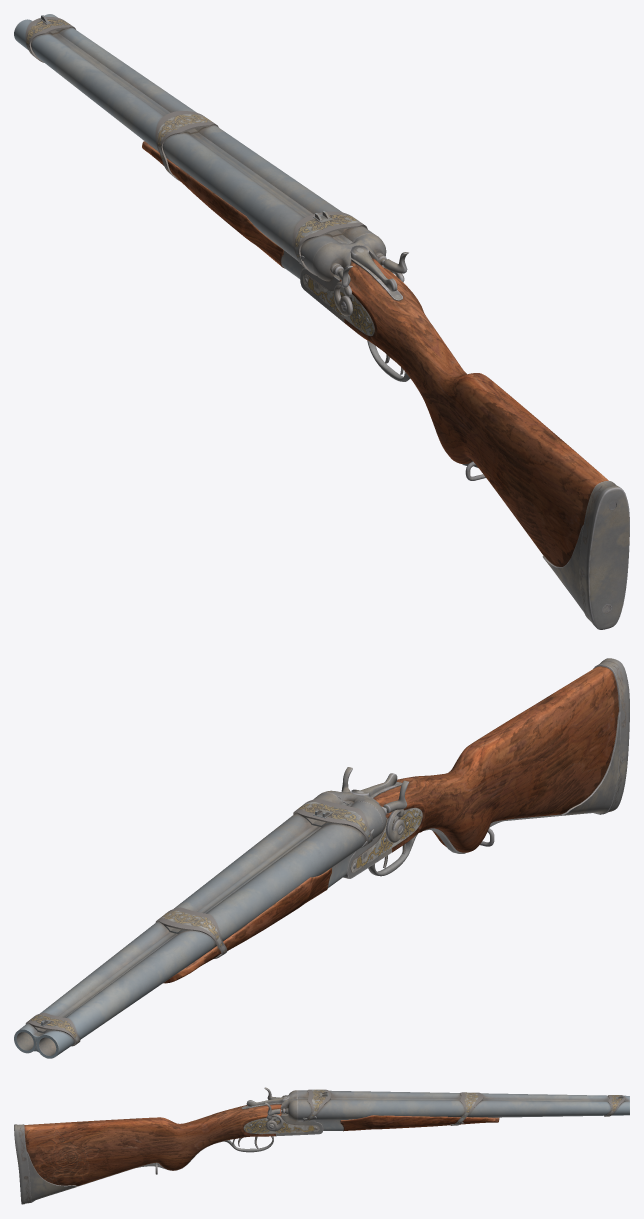
The model's file is stagecoach_shotgun.glb.
3 views of the same model, one above another, from view 1: azimuth 30°, elevation 25°; view 2: azimuth 150°, elevation 25°; view 3: azimuth 270°, elevation 25° (orthographic). The views are drawn at different scales.
Visible parts, largest first — view 1: StockMesh, BarrelMesh; view 2: StockMesh, BarrelMesh, Hammer2Mesh; view 3: StockMesh, BarrelMesh, Hammer1Mesh, EjectorMesh.
Boxes of the visible parts, <box> form: StockMesh: <box>300,233,629,629</box>; BarrelMesh: <box>14,14,374,278</box>; StockMesh: <box>319,658,629,878</box>; BarrelMesh: <box>14,793,382,1058</box>; Hammer2Mesh: <box>383,780,409,842</box>; StockMesh: <box>14,1090,323,1204</box>; BarrelMesh: <box>297,1089,629,1131</box>; Hammer1Mesh: <box>264,1102,283,1131</box>; EjectorMesh: <box>246,1095,289,1106</box>.
Size of the model in its own units: 0.0711 by 0.1971 by 0.9966.
2 materials, 2 textured.
